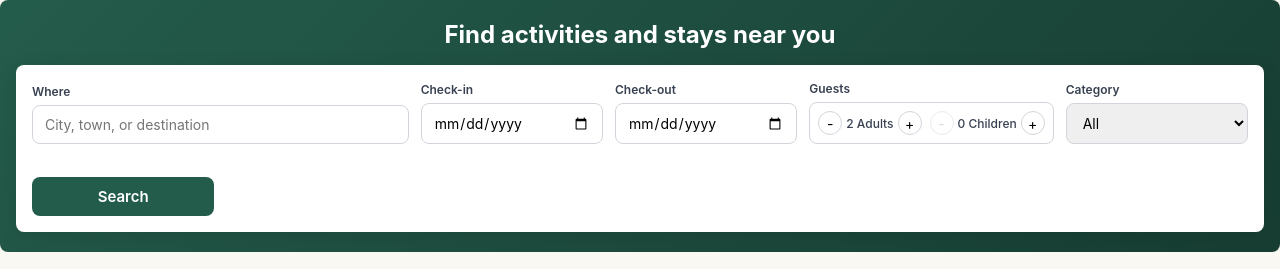
SearchHero - Compact Layout › updates adult count when +/- buttons are clicked
Click the button named "Increase adults" at [910, 123], box x1=898 y1=111 x2=922 y2=135
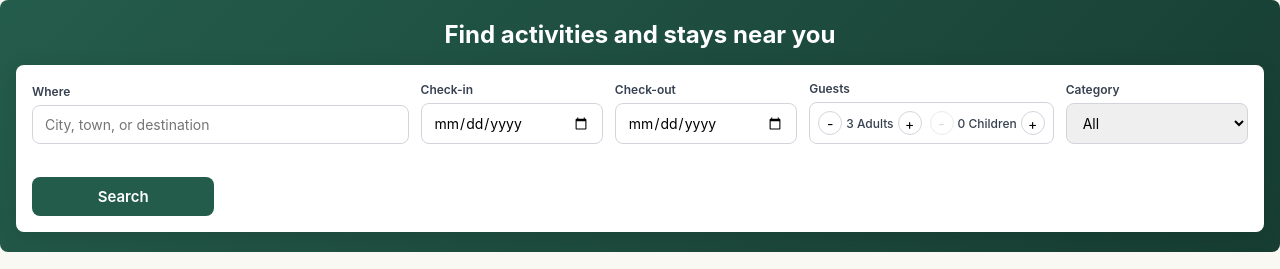
Expected: the text "3 Adults" is shown, x1=846 y1=116 x2=894 y2=130
Click the button named "Decrease adults" at [830, 123], box x1=818 y1=111 x2=842 y2=135
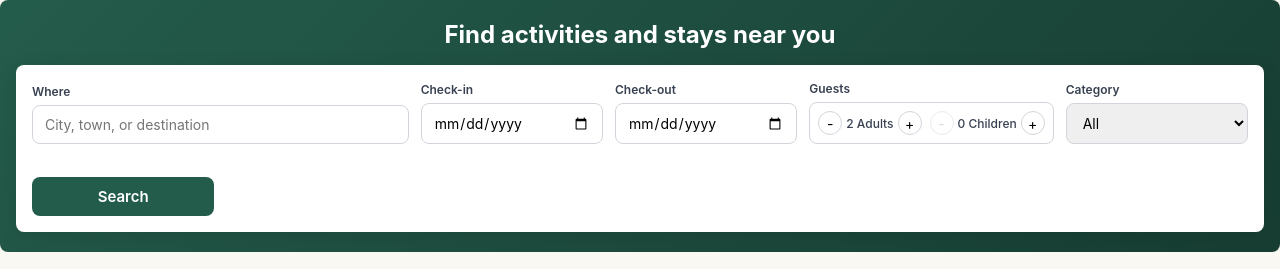
Expected: the text "2 Adults" is shown, x1=846 y1=116 x2=894 y2=130
